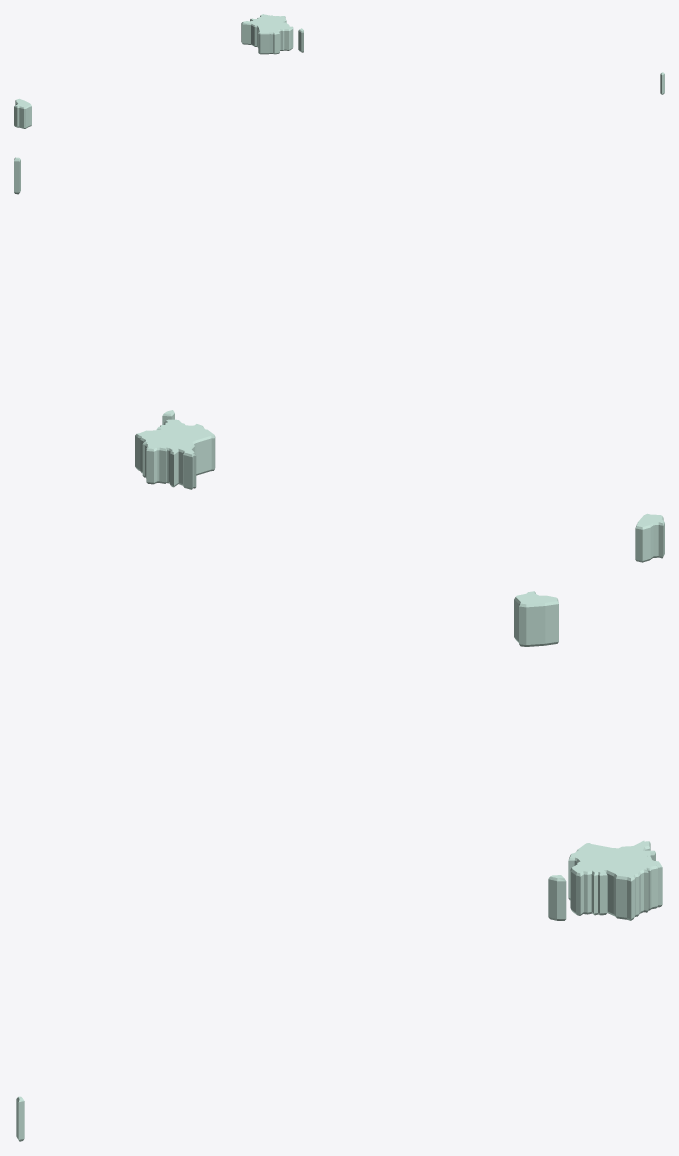
Rendered from FRA.glb.
The picture shows the model from 3 angles, top to bottom: view 1: azimuth 30°, elevation 25°; view 2: azimuth 150°, elevation 25°; view 3: azimuth 270°, elevation 25°; orthographic projection. The views are drawn at different scales.
Size of the model in its own units: 1.73 by 0.068 by 0.9303.
